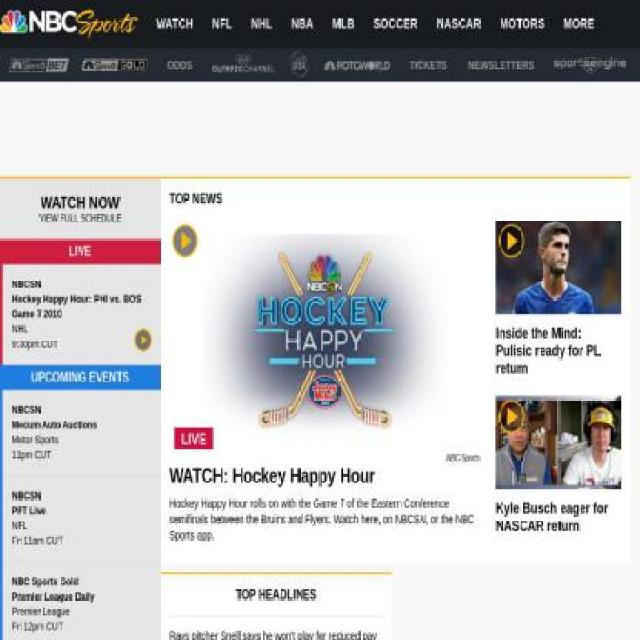button: (169, 220, 480, 454), (169, 495, 480, 543), (496, 220, 621, 314), (496, 396, 621, 490), (169, 463, 480, 488), (0, 0, 138, 49), (496, 324, 621, 378), (496, 500, 621, 535), (490, 0, 556, 49), (363, 0, 428, 49), (426, 0, 491, 49), (146, 0, 205, 49), (459, 48, 543, 81), (0, 194, 160, 211), (169, 628, 383, 640), (240, 0, 283, 49), (282, 0, 324, 49), (322, 0, 364, 49), (202, 0, 243, 49), (400, 48, 457, 81), (0, 213, 160, 224), (158, 48, 202, 81), (211, 54, 275, 74), (553, 56, 627, 72), (82, 59, 148, 72), (9, 58, 69, 72), (324, 61, 390, 73), (290, 52, 310, 76)
field: (353, 85, 561, 118)
